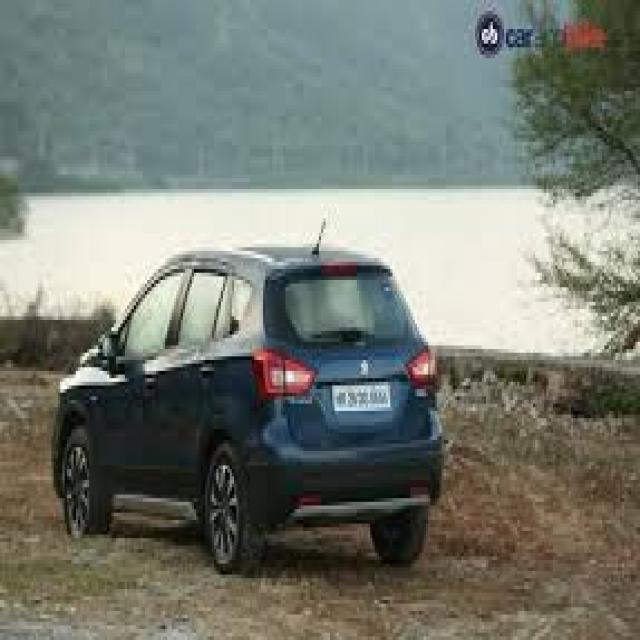car: (38, 226, 457, 564)
